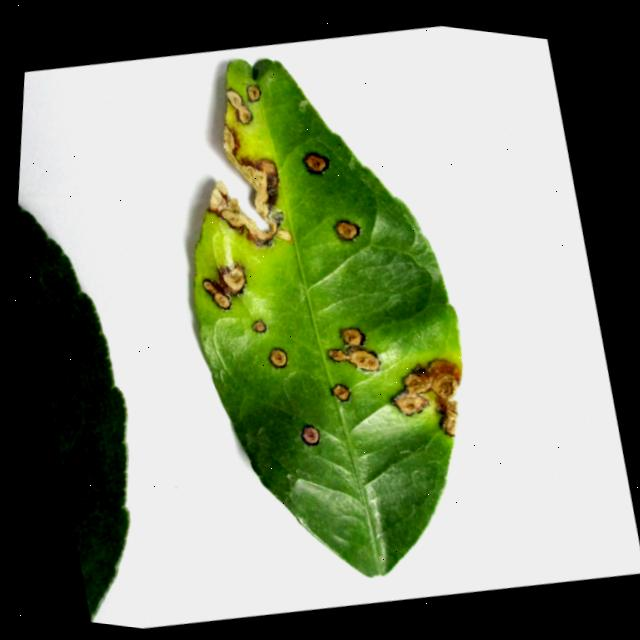antracnose: (193, 59, 460, 576), (208, 125, 277, 244), (390, 359, 459, 436), (202, 264, 245, 308), (327, 349, 378, 370), (225, 90, 251, 124), (302, 153, 328, 173), (333, 220, 359, 240), (339, 327, 364, 346), (300, 425, 319, 445), (268, 348, 286, 368), (329, 384, 349, 401), (225, 90, 241, 109), (245, 85, 259, 102), (251, 319, 265, 332)
